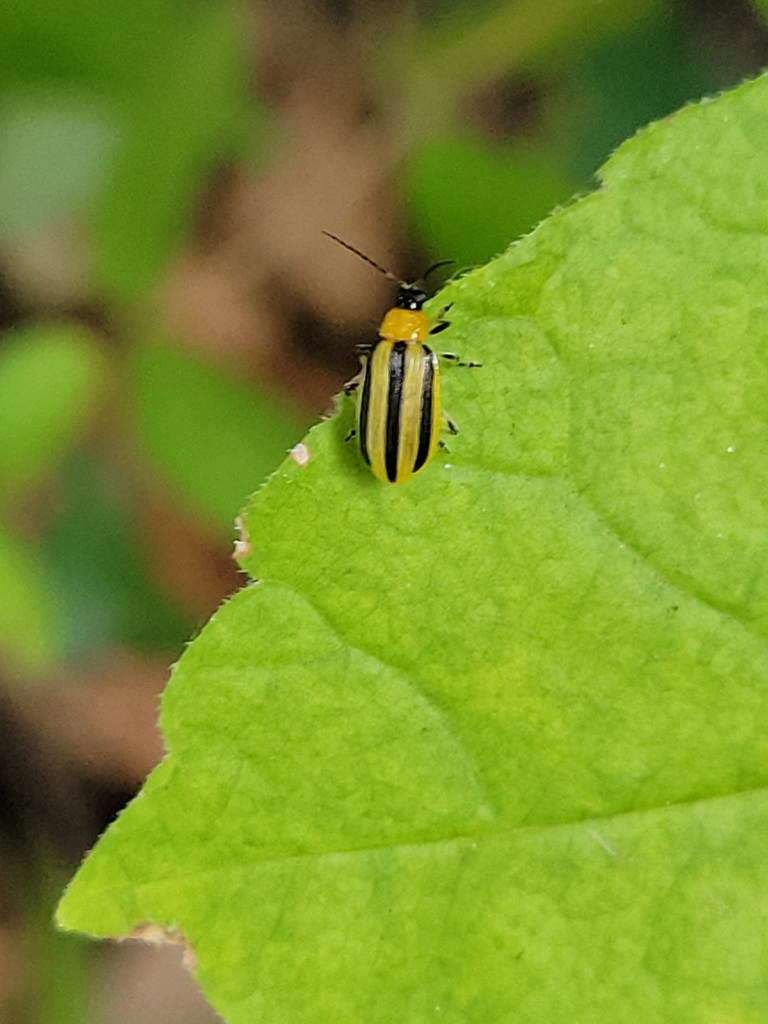potato_beetle: (255, 171, 559, 552)
